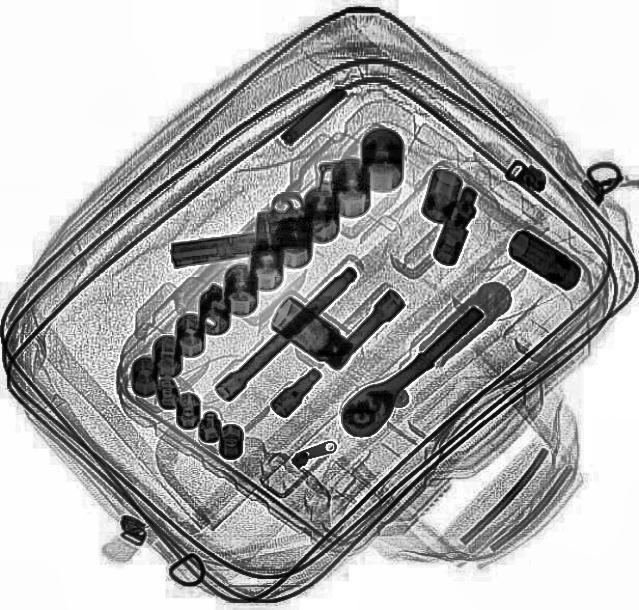Gun: (158, 158, 364, 266)
